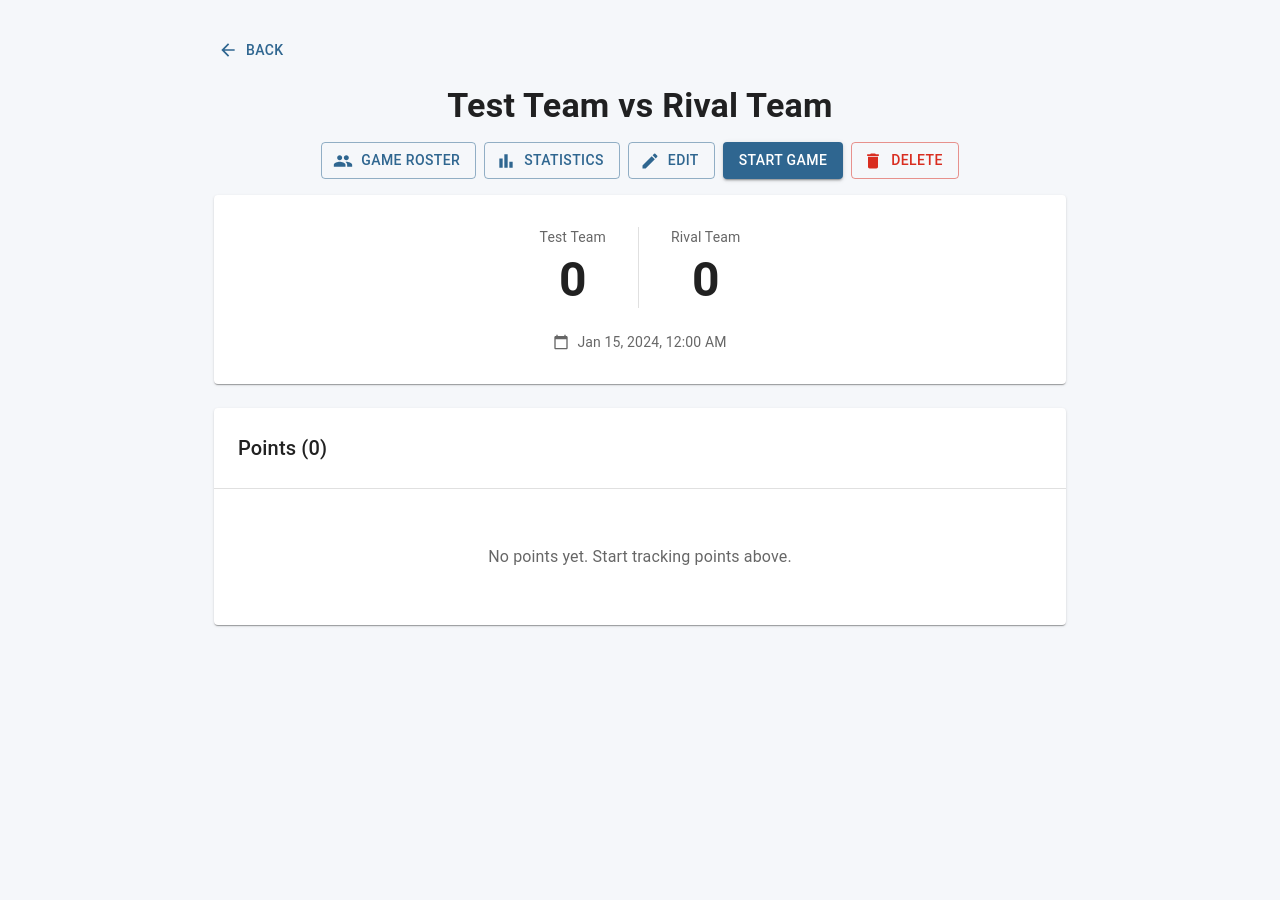
it: GameDetailPage › displays player roster in dialog
Expected: the heading "Test Team vs Rival Team" is shown, [447, 84, 833, 124]
# Open roster dialog
Click the button "Game Roster": (399, 161) [321, 142, 476, 179]
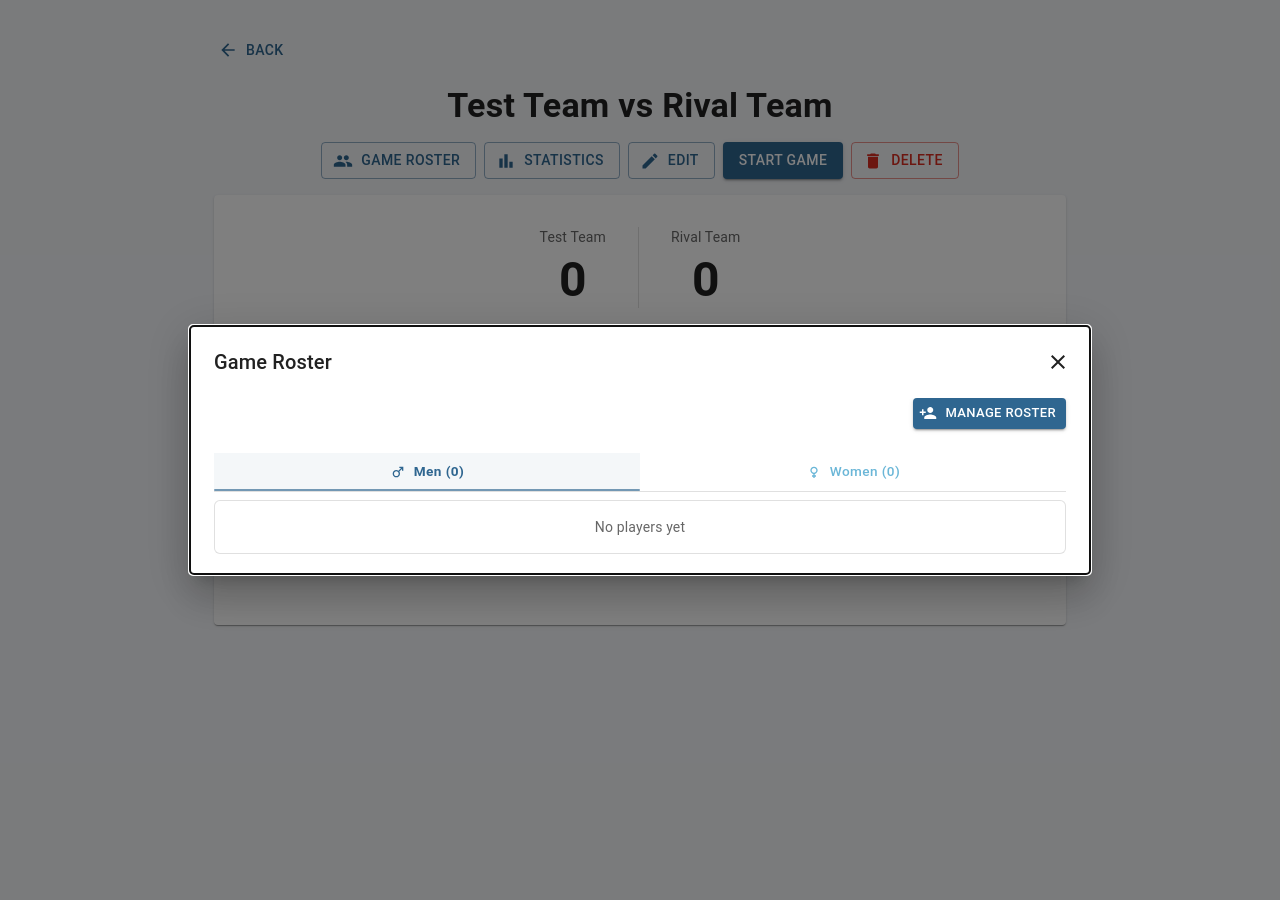
Now the dialog is shown, box [190, 326, 1090, 574]
Now the heading "Game Roster" is shown, box [214, 342, 1078, 382]
Now the tab "Men (0)" is shown, box [214, 453, 640, 491]
# Close dialog
Click the button named "close": (1058, 362) [1038, 342, 1078, 382]
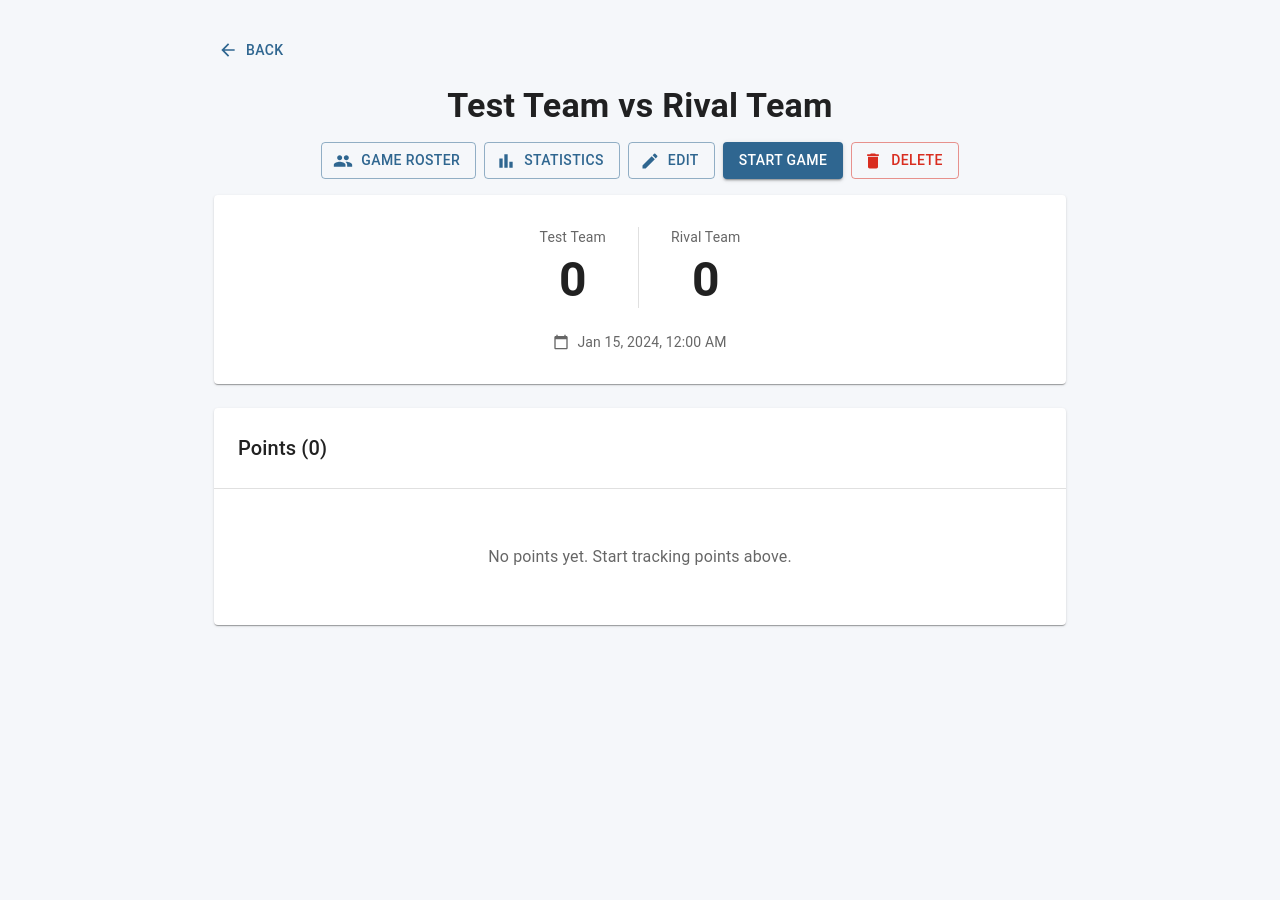
Now the dialog is gone
